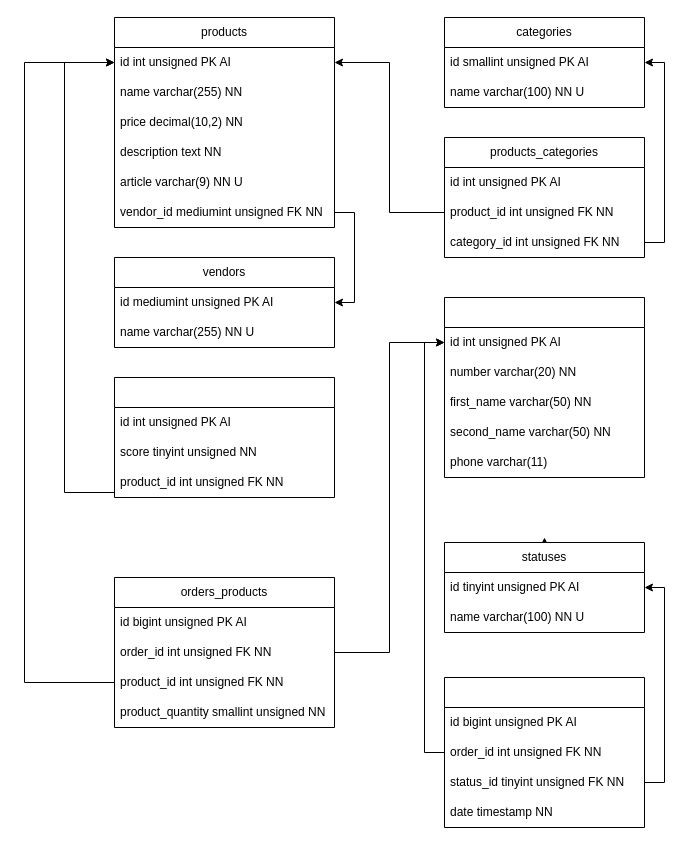
Image size: 690x845. Some labels were removed from this diagram. Here are the shapes that lost their labels. From the top down, the box of each, then its label:
(444, 296, 644, 478): orders
(114, 376, 334, 498): evaluations
(444, 676, 644, 828): orders_statuses
